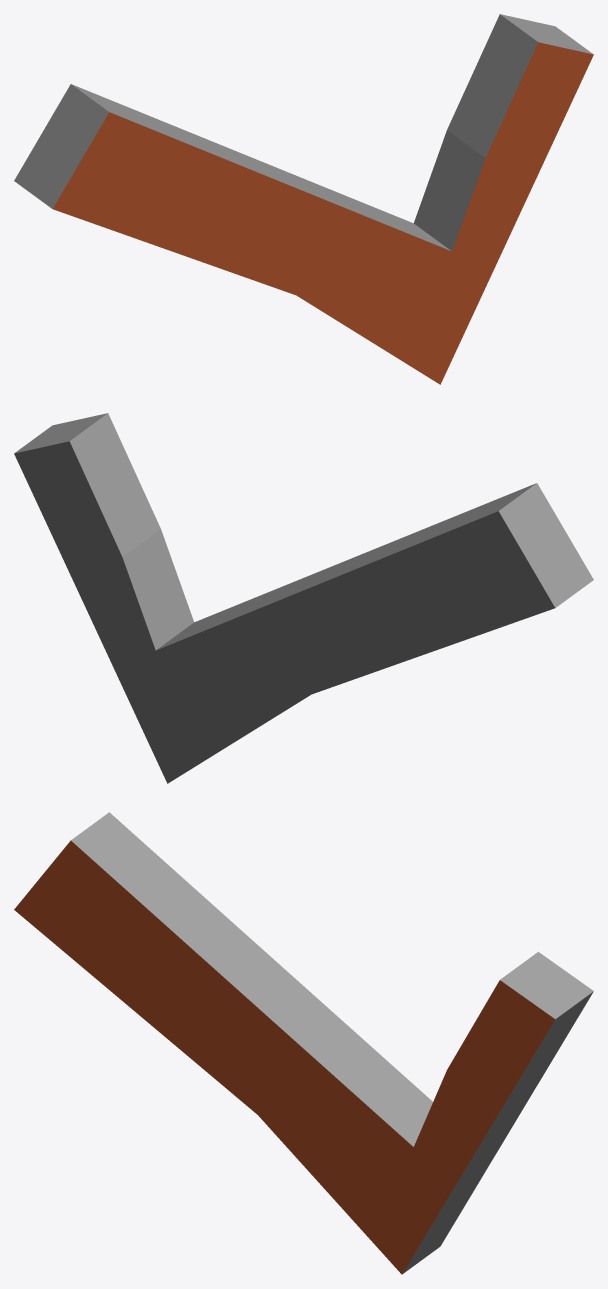
The model's file is construction_3757_assumed_A_Casa_h6m.obj.
3 renders of one model, top to bottom at view 1: azimuth 30°, elevation 25°; view 2: azimuth 150°, elevation 25°; view 3: azimuth 330°, elevation 25°, orthographic.
Visible parts, largest first — view 1: construction_3757_assumed_A_Casa; view 2: construction_3757_assumed_A_Casa; view 3: construction_3757_assumed_A_Casa.
Boxes of the visible parts, left/top/right/bottom form: construction_3757_assumed_A_Casa: left=14, top=14, right=593, bottom=384; construction_3757_assumed_A_Casa: left=14, top=413, right=593, bottom=783; construction_3757_assumed_A_Casa: left=14, top=812, right=593, bottom=1274.
Size of the model in its own units: 48.65 by 30.36 by 6.
